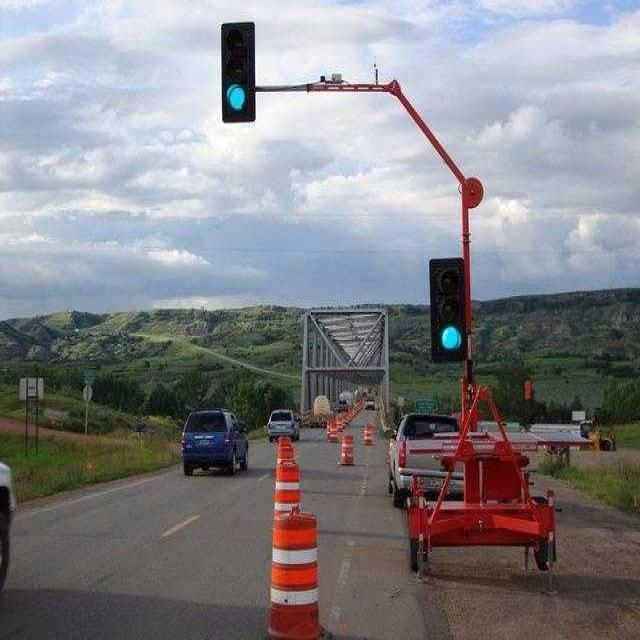Traffic Light -Green-: (428, 257, 468, 359), (219, 19, 256, 124)
